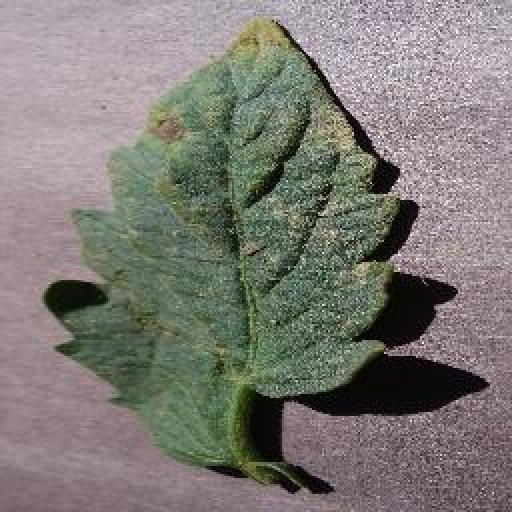Early Blight: (52, 17, 406, 467)
